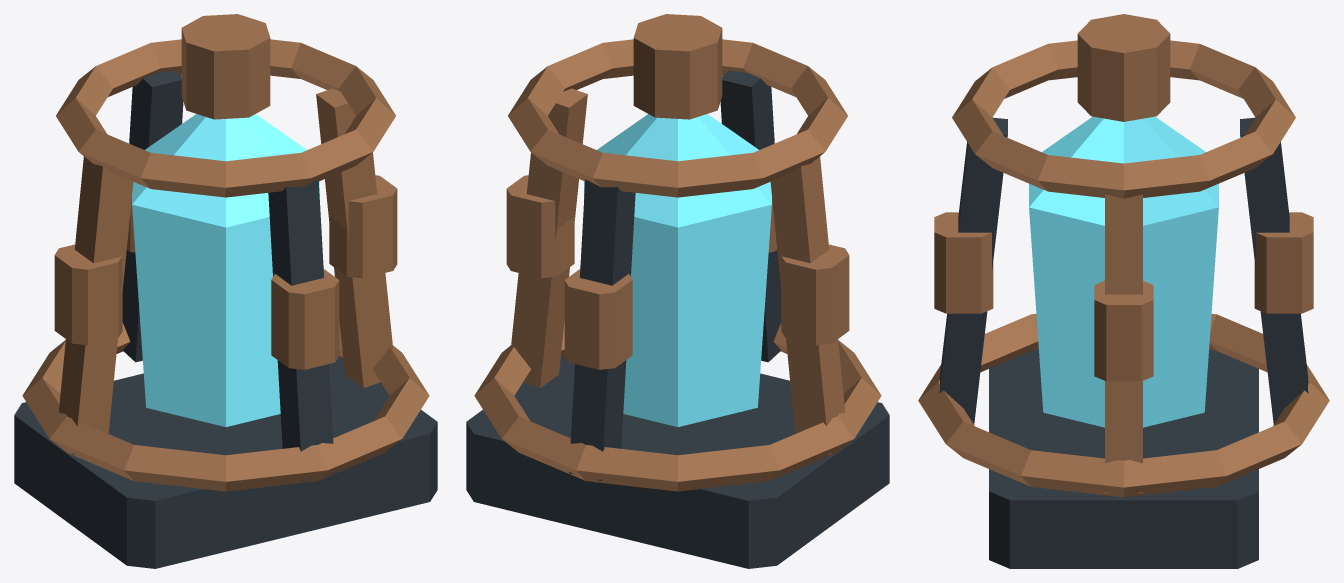
Rendered from core_boss.glb.
3 views of the same model, side by side, from view 1: azimuth 30°, elevation 25°; view 2: azimuth 150°, elevation 25°; view 3: azimuth 270°, elevation 25° (orthographic).
Visible parts, largest first — view 1: geometry, core; view 2: geometry, core; view 3: geometry, core.
Part boxes in pixels (x1=…): geometry: x1=14, y1=14, x2=437, y2=568; core: x1=132, y1=114, x2=319, y2=426; geometry: x1=466, y1=14, x2=889, y2=568; core: x1=584, y1=114, x2=771, y2=426; geometry: x1=918, y1=14, x2=1329, y2=568; core: x1=1029, y1=116, x2=1218, y2=427.
Bounding box in the file's own units: 0.488 × 0.6 × 0.488.
